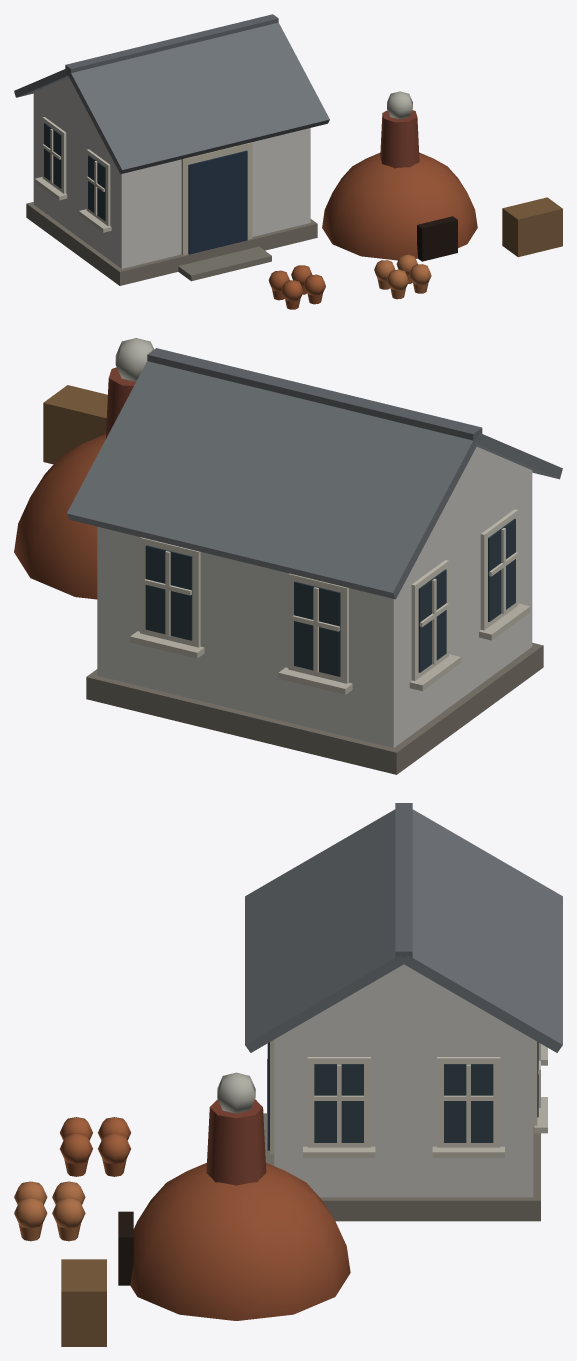
The model's file is procedural_pottery_kiln@6.glb.
3 views of the same model, one above another, from view 1: azimuth 30°, elevation 25°; view 2: azimuth 150°, elevation 25°; view 3: azimuth 270°, elevation 25° (orthographic). The views are drawn at different scales.
Visible parts, largest first — view 1: part_0, part_4; view 2: part_0, part_4; view 3: part_0, part_4.
Boxes of the visible parts, x1=… form: part_0: x1=14, y1=14, x2=562, y2=309; part_4: x1=387, y1=91, x2=412, y2=119; part_0: x1=14, y1=348, x2=562, y2=774; part_4: x1=115, y1=338, x2=153, y2=381; part_0: x1=14, y1=803, x2=562, y2=1346; part_4: x1=217, y1=1072, x2=255, y2=1113.
Bounding box in the file's own units: 8.41 × 3.96 × 7.21.
